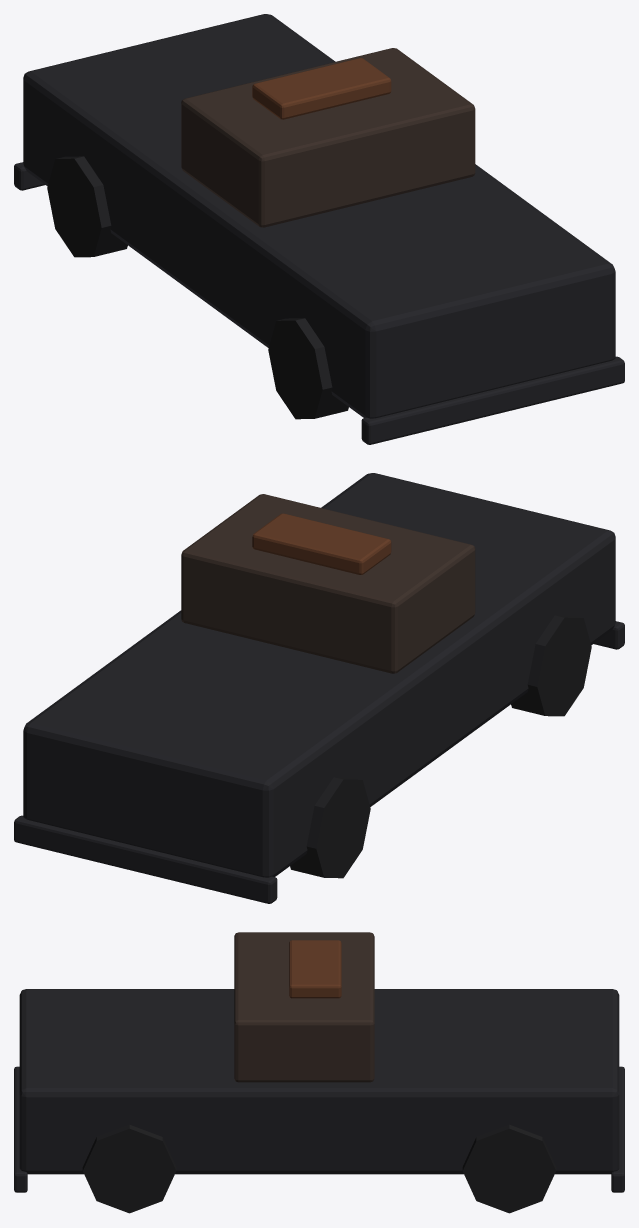
Rendered from police_car_burnt_lod1.glb.
3 views of the same model, one above another, from view 1: azimuth 30°, elevation 25°; view 2: azimuth 150°, elevation 25°; view 3: azimuth 270°, elevation 25° (orthographic). The views are drawn at different scales.
Visible parts, largest first — view 1: police_car_burnt_lod1; view 2: police_car_burnt_lod1; view 3: police_car_burnt_lod1.
Boxes of the visible parts, box(x1,y1,x2,y2) form: police_car_burnt_lod1: box(14, 14, 624, 444); police_car_burnt_lod1: box(14, 473, 624, 903); police_car_burnt_lod1: box(14, 932, 624, 1213).
Bounding box in the file's own units: 1.94 × 1.56 × 4.44.
3 materials, 3 textured.
